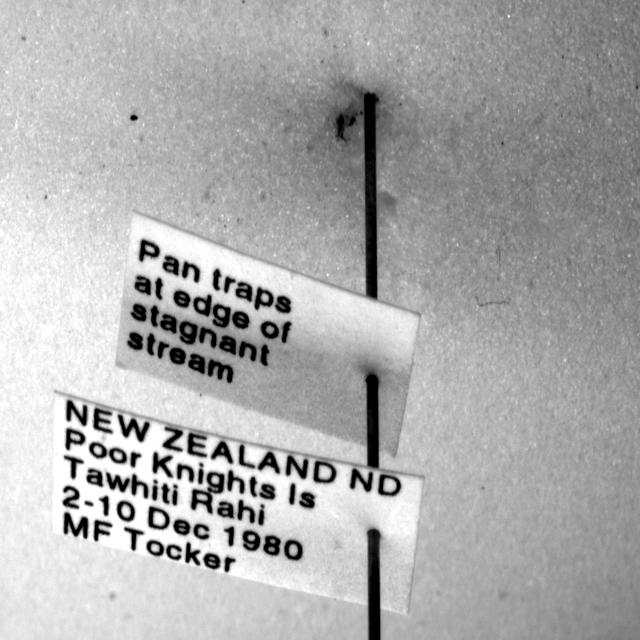typed_label: (52, 392, 424, 613), (116, 214, 420, 456)
